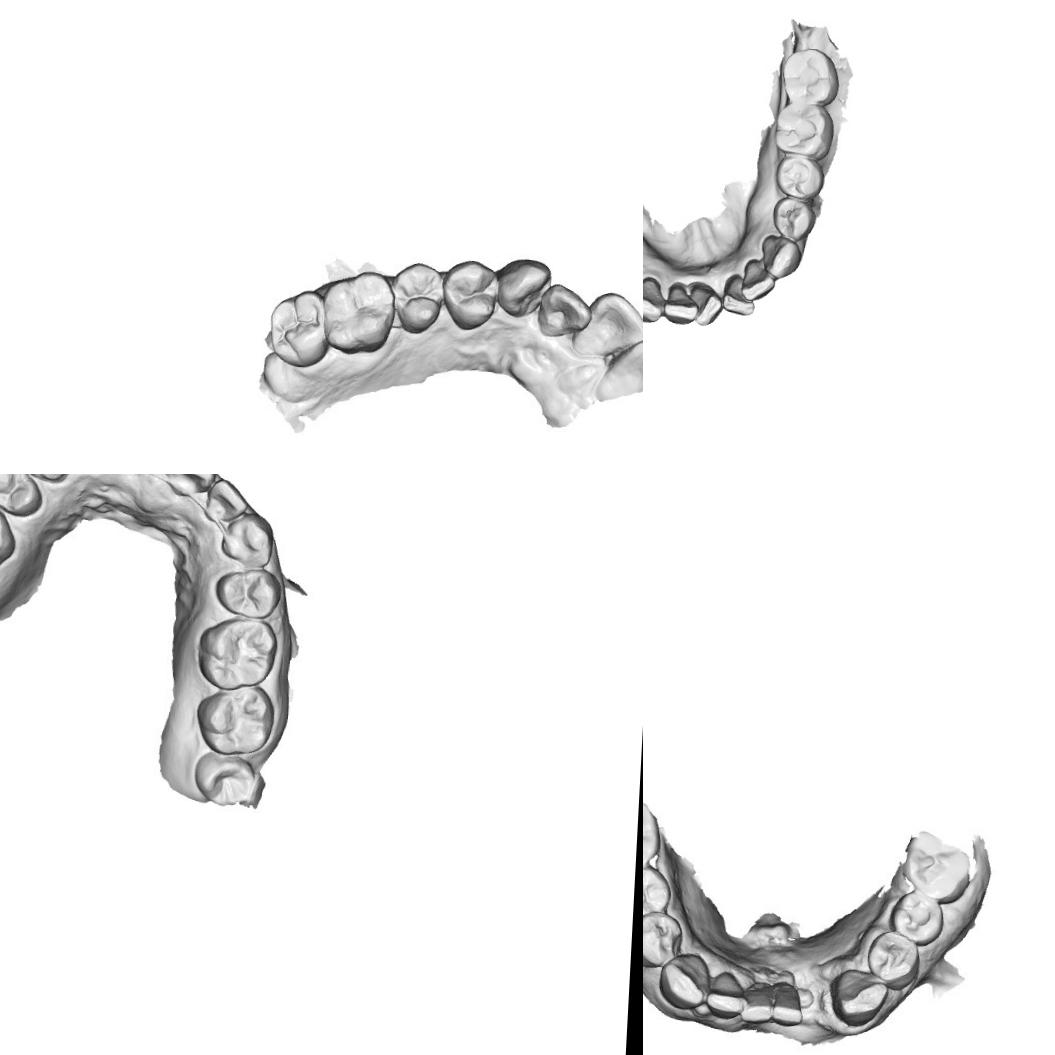canine: (828, 965, 892, 1030), (492, 256, 550, 320), (656, 949, 712, 1012), (217, 513, 276, 566), (758, 232, 804, 280), (643, 273, 668, 324)
incisor: (570, 287, 643, 362), (589, 334, 643, 404), (534, 280, 593, 340), (702, 968, 748, 1020), (200, 476, 250, 522), (660, 281, 700, 326), (768, 983, 806, 1030), (738, 257, 776, 303), (718, 272, 756, 318), (687, 279, 723, 327), (738, 983, 776, 1027), (160, 474, 216, 500)
molar: (194, 614, 282, 692), (323, 268, 398, 356), (196, 684, 275, 757), (266, 286, 332, 370), (900, 832, 975, 904), (189, 749, 267, 810), (777, 44, 842, 106), (770, 100, 836, 160), (643, 795, 664, 876), (0, 490, 18, 578)
premolar: (439, 256, 502, 332), (390, 259, 444, 336), (212, 565, 282, 619), (864, 927, 924, 988), (886, 889, 946, 947), (643, 906, 686, 970), (772, 153, 825, 200), (768, 195, 815, 242), (0, 474, 46, 518), (643, 863, 674, 921)
